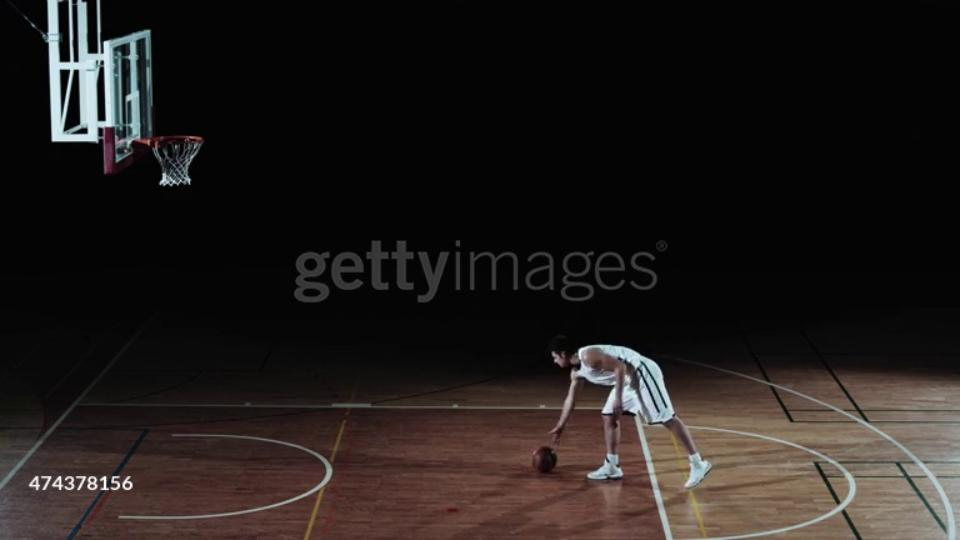hoop: (130, 134, 209, 161)
